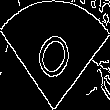O_SW: (31, 21, 79, 89)
